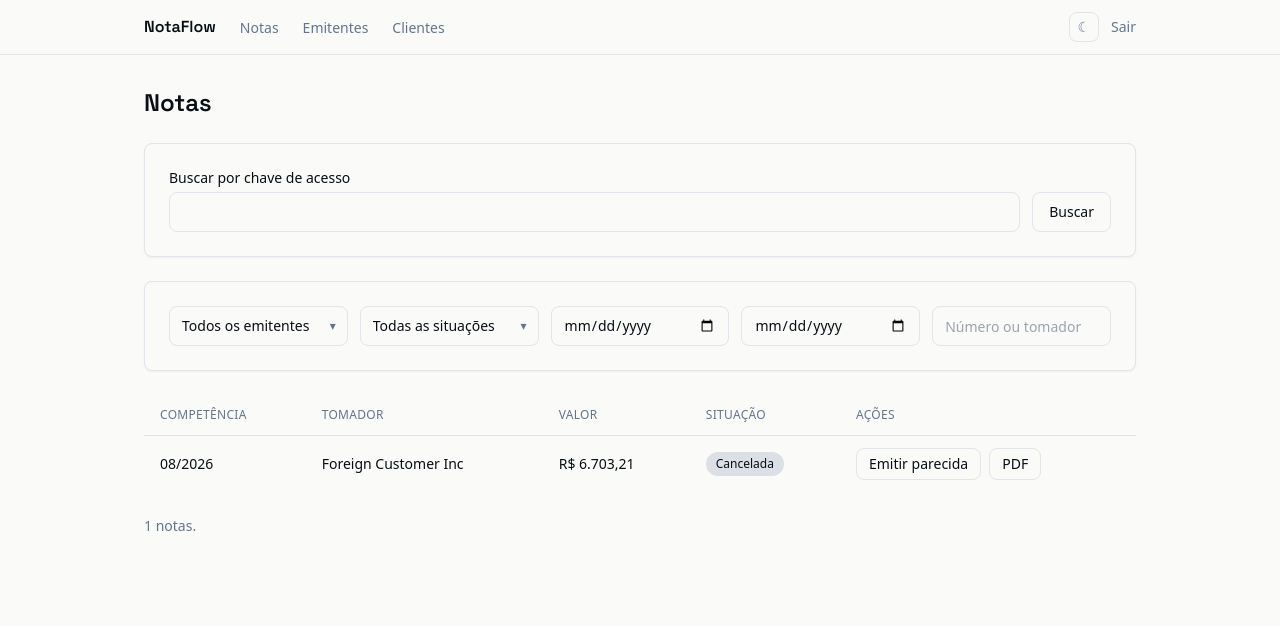
a PDF the ADN cannot render shows why
The width and height of the screenshot is (1280, 626).
Click the button "PDF" at (1015, 464), box [989,448,1041,480]
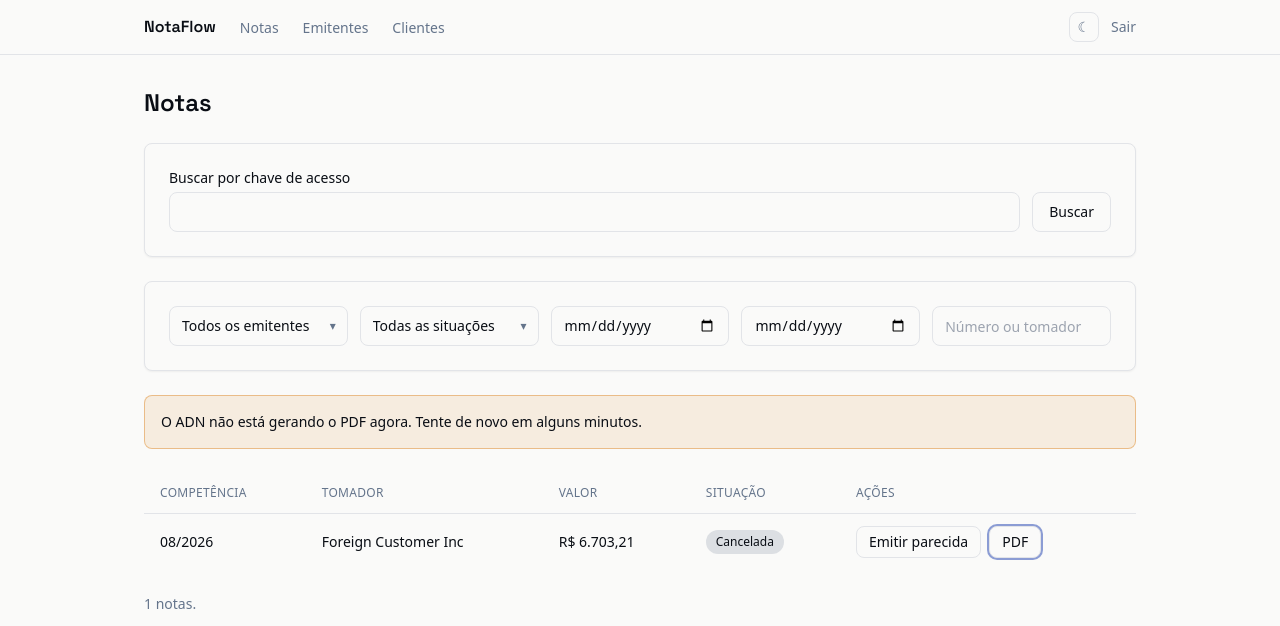
Expected: the text "O ADN não está gerando o PDF agora. Tente de novo em alguns minutos." is shown, [144,395,1136,449]
